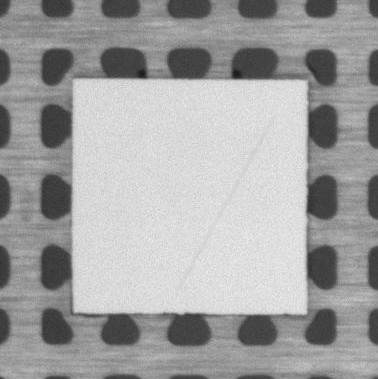DIE_CRACK: (176, 115, 274, 295)
